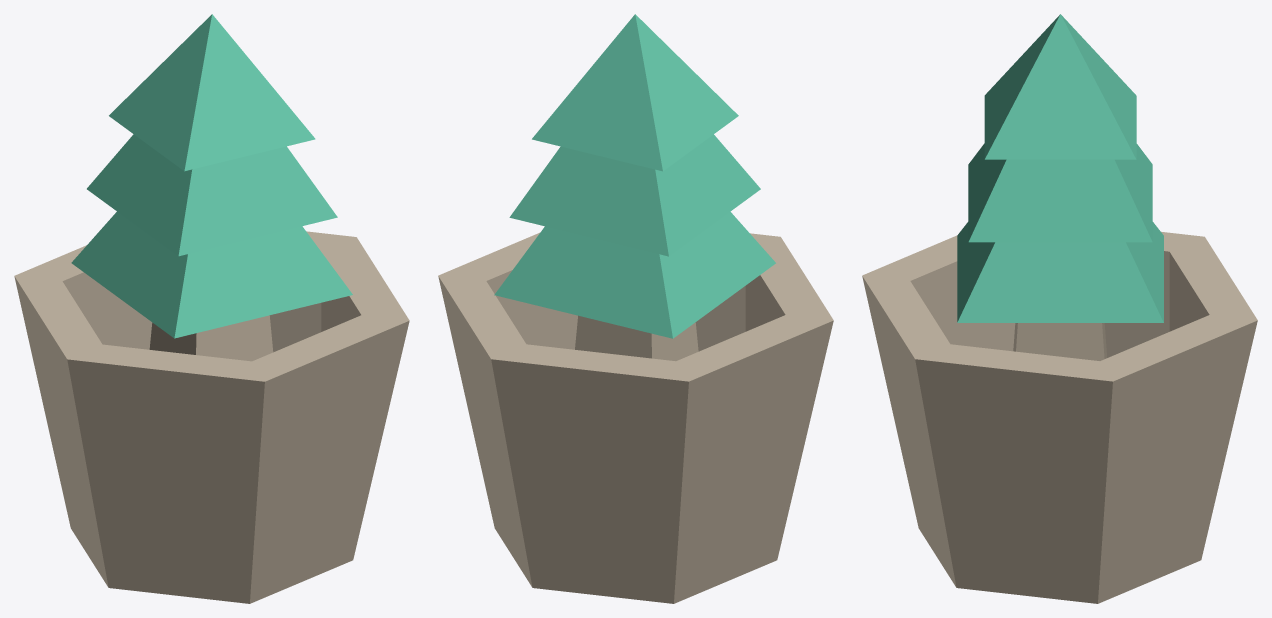
File: plant_pot_b.glb
3 views of the same model, side by side, from view 1: azimuth 30°, elevation 25°; view 2: azimuth 150°, elevation 25°; view 3: azimuth 270°, elevation 25° (orthographic).
Parts seen in each view (by area): view 1: plant_pot_b; view 2: plant_pot_b; view 3: plant_pot_b.
Boxes of the visible parts, <box> form: plant_pot_b: <box>14,14,409,603</box>; plant_pot_b: <box>438,14,833,603</box>; plant_pot_b: <box>862,14,1257,603</box>.
Bounding box in the file's own units: 20.28 × 30 × 20.28.
